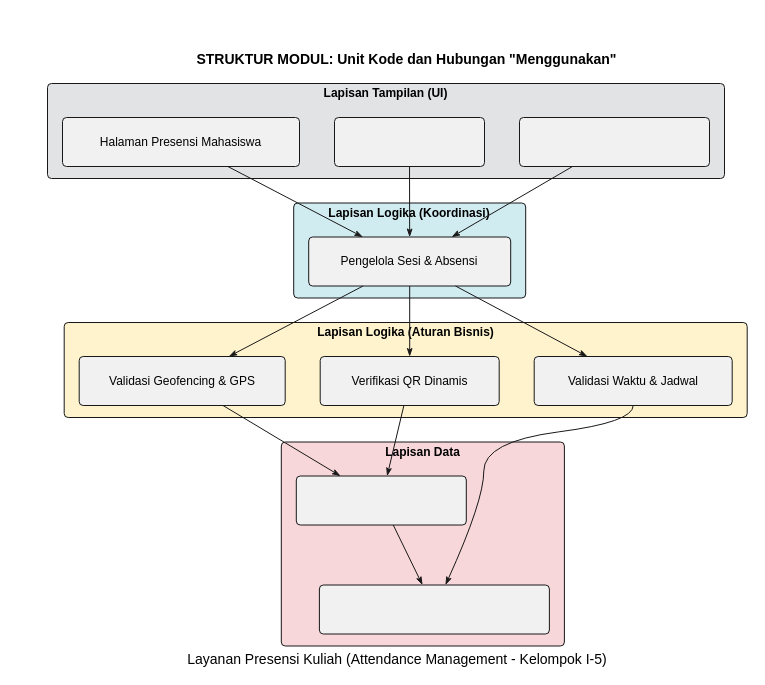
This 765x685 diagram has some shape labels left out. The shapes that lost their labels are listed below. From the top down, each one's centre as x and y in pixels, then its label:
point (409, 141): Panel Sesi Dosen
point (614, 141): Laporan & Rekapitulasi
point (380, 500): Repositori Presensi
point (433, 609): Repositori Akademik (SIAKAD)
